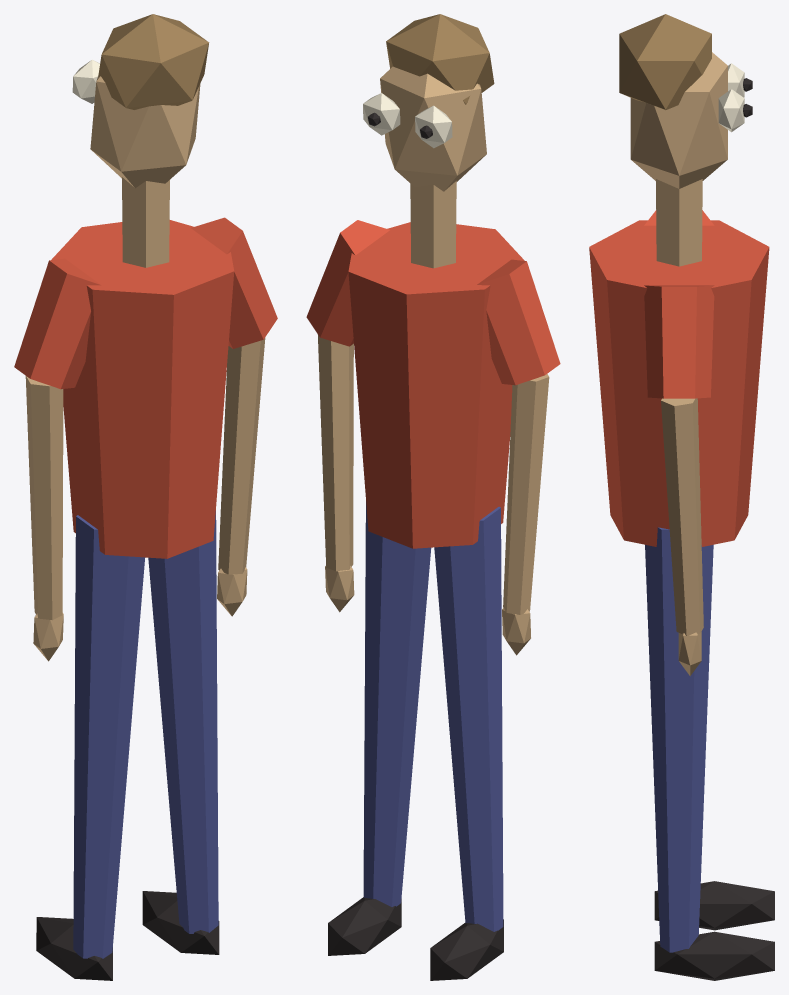
Rendered from Islander.fbx.
3 views of the same model, side by side, from view 1: azimuth 30°, elevation 25°; view 2: azimuth 150°, elevation 25°; view 3: azimuth 270°, elevation 25° (orthographic). The views are drawn at different scales.
Visible parts, largest first — view 1: Shirt, Leg1, Leg-1, Hair, Arm1, Head, Arm-1, Sleeve1, Sleeve-1, Neck, Shoe1, Shoe-1 (+3 smaller); view 2: Shirt, Leg1, Leg-1, Head, Arm1, Arm-1, Sleeve1, Hair, Sleeve-1, Neck, Shoe1, Shoe-1 (+4 smaller); view 3: Shirt, Leg-1, Head, Arm-1, Sleeve-1, Hair, Shoe-1, Neck, Shoe1, Eye-1, Hand-1, Eye1.
Boxes of the visible parts, x1,y1,x2,y2 form: Shirt: (51,220,234,558); Leg1: (73,515,145,958); Leg-1: (148,511,218,933); Hair: (98,14,209,109); Arm1: (25,376,63,620); Head: (90,76,200,188); Arm-1: (218,337,265,574); Sleeve1: (14,258,100,389); Sleeve-1: (191,217,277,348); Neck: (122,177,169,267); Shoe1: (36,917,112,980); Shoe-1: (142,891,219,954); Shirt: (348,222,524,548); Leg1: (434,506,503,931); Leg-1: (363,501,431,906); Head: (380,66,486,191); Arm1: (503,374,549,614); Arm-1: (318,335,353,571); Sleeve1: (477,259,560,385); Hair: (386,14,494,104); Sleeve-1: (306,220,389,346); Neck: (410,181,456,268); Shoe1: (430,919,503,980); Shoe-1: (328,897,401,955); Shirt: (589,220,769,546); Leg-1: (645,527,713,952); Head: (630,52,727,188); Arm-1: (661,398,703,635); Sleeve-1: (644,285,714,398); Hair: (619,14,711,110); Shoe-1: (654,931,774,980); Neck: (656,179,702,266); Shoe1: (654,881,774,930); Eye-1: (718,89,744,132); Hand-1: (678,632,701,675); Eye1: (728,63,744,97).
Size of the model in its own units: 0.5126 by 1.91 by 0.3413.
